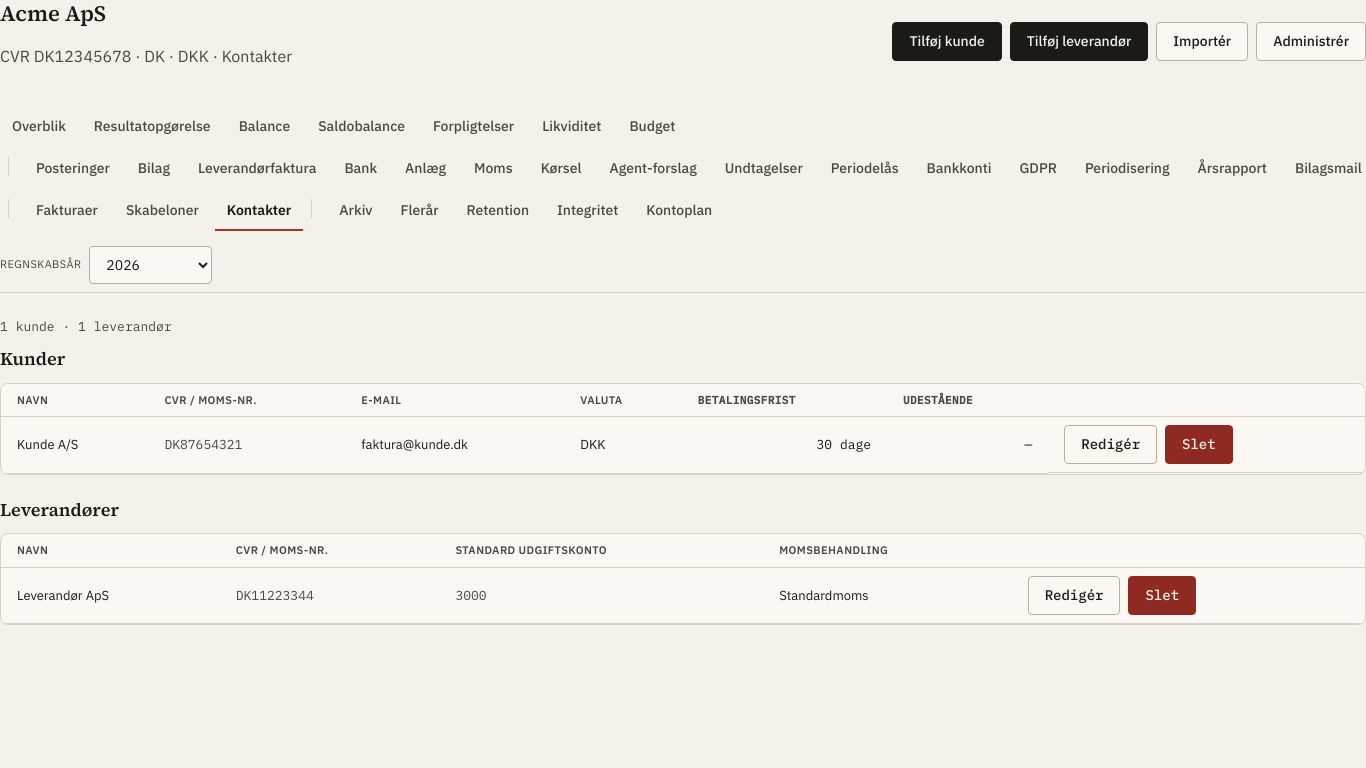
ContactsView — Kontakter › clicking Importér opens the file-import modal
Click the button "Importér": (1202, 42) 1156,22 -> 1248,61
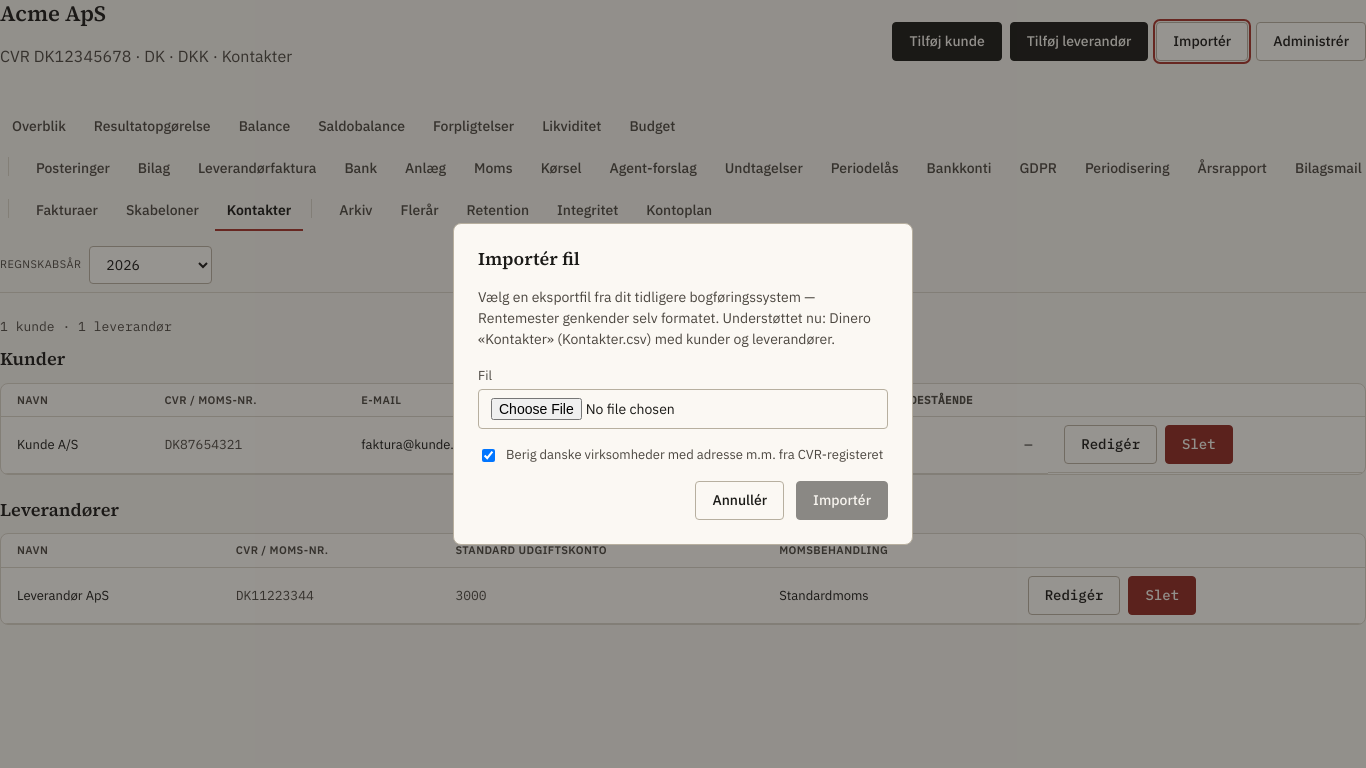
Check: the dialog "Importér fil" is shown, box 453,223 -> 913,545
